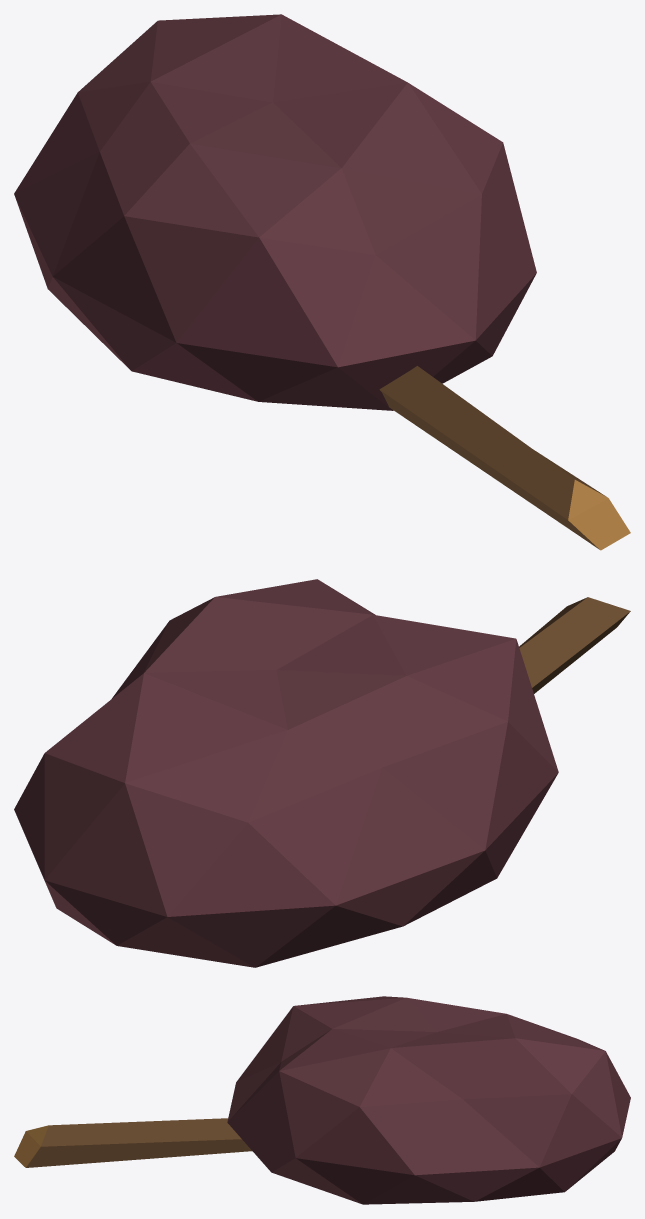
The model's file is tree-debris-h.fbx.
The picture shows the model from 3 angles, top to bottom: view 1: azimuth 30°, elevation 25°; view 2: azimuth 150°, elevation 25°; view 3: azimuth 270°, elevation 25°; orthographic projection. The views are drawn at different scales.
Parts seen in each view (by area): view 1: tree-debris-h; view 2: tree-debris-h; view 3: tree-debris-h.
Part boxes in pixels (x1=…): tree-debris-h: x1=14, y1=14, x2=630, y2=550; tree-debris-h: x1=14, y1=579, x2=630, y2=967; tree-debris-h: x1=14, y1=996, x2=630, y2=1204.
Size of the model in its own units: 1.49 by 0.7633 by 2.99.
